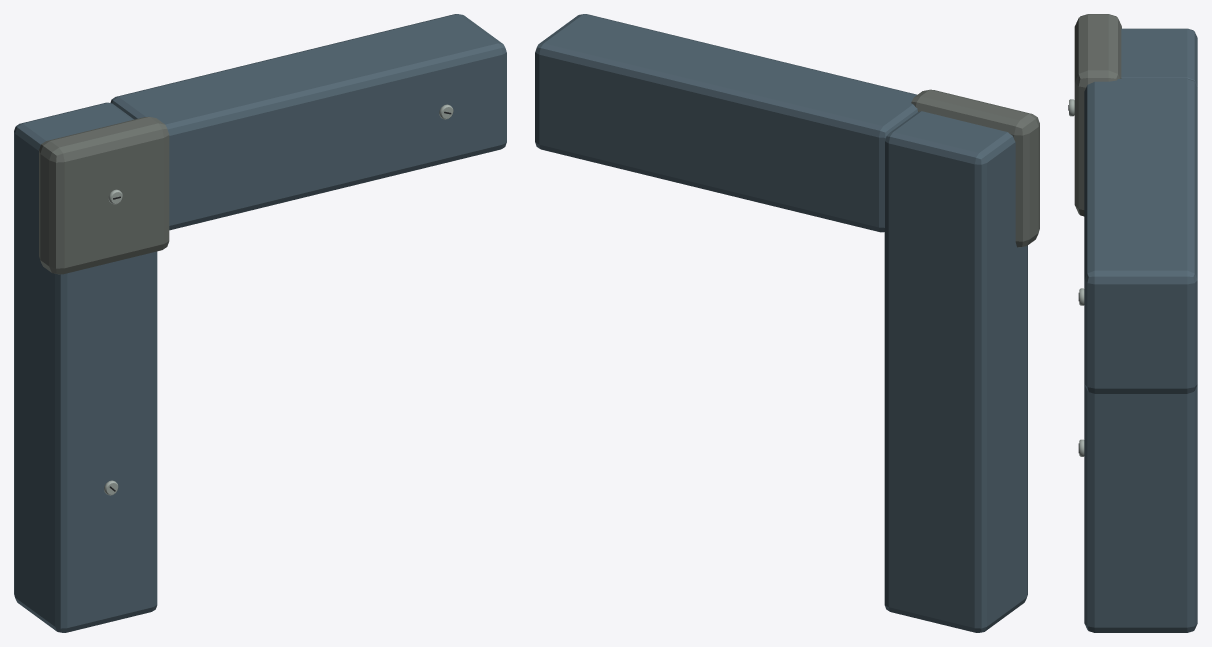
Rendered from CableTrunkingElbow.fbx.
3 views of the same model, side by side, from view 1: azimuth 30°, elevation 25°; view 2: azimuth 150°, elevation 25°; view 3: azimuth 270°, elevation 25° (orthographic). The views are drawn at different scales.
Visible parts, largest first — view 1: Vertical channel, Horizontal channel, Corner cover; view 2: Vertical channel, Horizontal channel, Corner cover; view 3: Horizontal channel, Vertical channel, Corner cover.
Boxes of the visible parts, x1,y1,x2,y2 form: Vertical channel: [14, 102, 157, 632]; Horizontal channel: [110, 14, 506, 230]; Corner cover: [39, 116, 169, 274]; Vertical channel: [884, 111, 1027, 632]; Horizontal channel: [535, 14, 917, 232]; Corner cover: [911, 89, 1039, 247]; Horizontal channel: [1084, 78, 1197, 393]; Vertical channel: [1084, 28, 1197, 632]; Corner cover: [1074, 14, 1121, 216].
Bounding box in the file's own units: 0.417 × 0.424 × 0.088.
